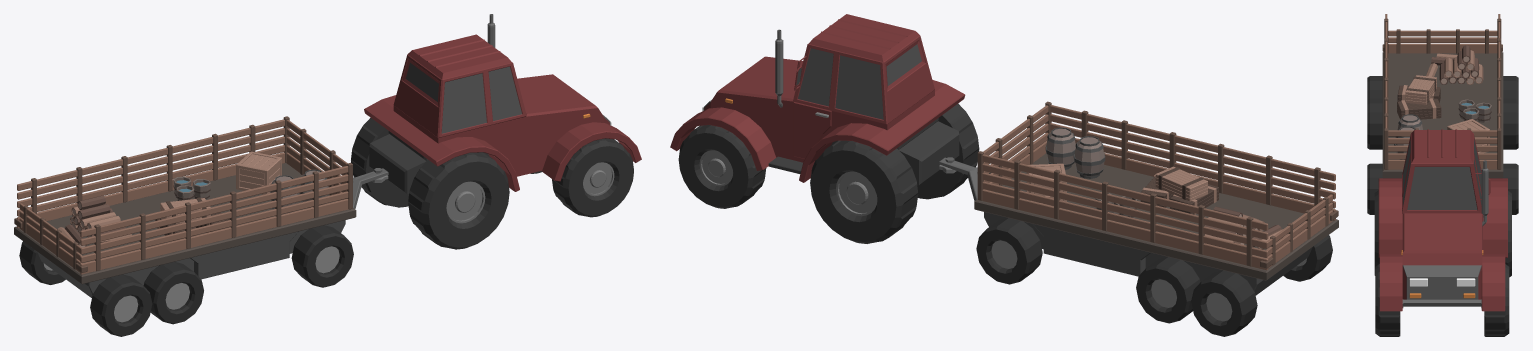
The model's file is tractor-a03.glb.
3 renders of one model, left to right at view 1: azimuth 30°, elevation 25°; view 2: azimuth 150°, elevation 25°; view 3: azimuth 270°, elevation 25°, orthographic. The views are drawn at different scales.
Parts seen in each view (by area): view 1: tractor_a03_001; view 2: tractor_a03_001; view 3: tractor_a03_001.
Part boxes in pixels (bbox=[...]): tractor_a03_001: bbox=[14, 14, 641, 336]; tractor_a03_001: bbox=[670, 14, 1338, 336]; tractor_a03_001: bbox=[1367, 14, 1518, 336].
Bounding box in the file's own units: 11 × 3.2 × 2.9.
2 materials, 2 textured.
